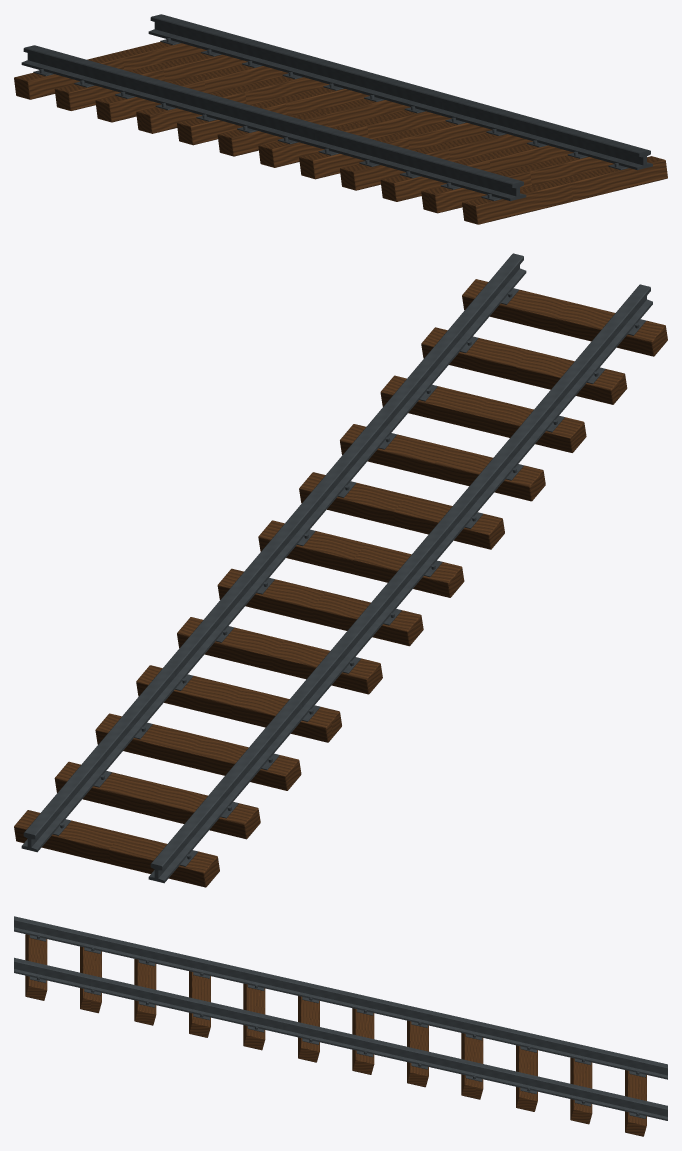
Rendered from Rail_Slope_1x4.fbx.
3 renders of one model, top to bottom at view 1: azimuth 30°, elevation 25°; view 2: azimuth 150°, elevation 25°; view 3: azimuth 270°, elevation 25°, orthographic. The views are drawn at different scales.
Visible parts, largest first — view 1: Ties.002, Rail_Left.002, Rail_Right.002, Fasteners.002; view 2: Ties.002, Rail_Right.002, Rail_Left.002, Fasteners.002; view 3: Ties.002, Rail_Left.002, Rail_Right.002, Fasteners.002.
Part boxes in pixels (x1,y1,x2,y2): Ties.002: (14, 41, 667, 224); Rail_Left.002: (21, 45, 526, 201); Rail_Right.002: (148, 14, 652, 170); Fasteners.002: (33, 38, 628, 200); Ties.002: (14, 279, 667, 887); Rail_Right.002: (21, 253, 526, 852); Rail_Left.002: (148, 284, 652, 883); Fasteners.002: (53, 288, 645, 866); Ties.002: (25, 934, 646, 1136); Rail_Left.002: (14, 916, 667, 1079); Rail_Right.002: (14, 957, 667, 1120); Fasteners.002: (29, 935, 645, 1118).
Size of the model in its own units: 90 by 113 by 400.
3 materials, 3 textured.
